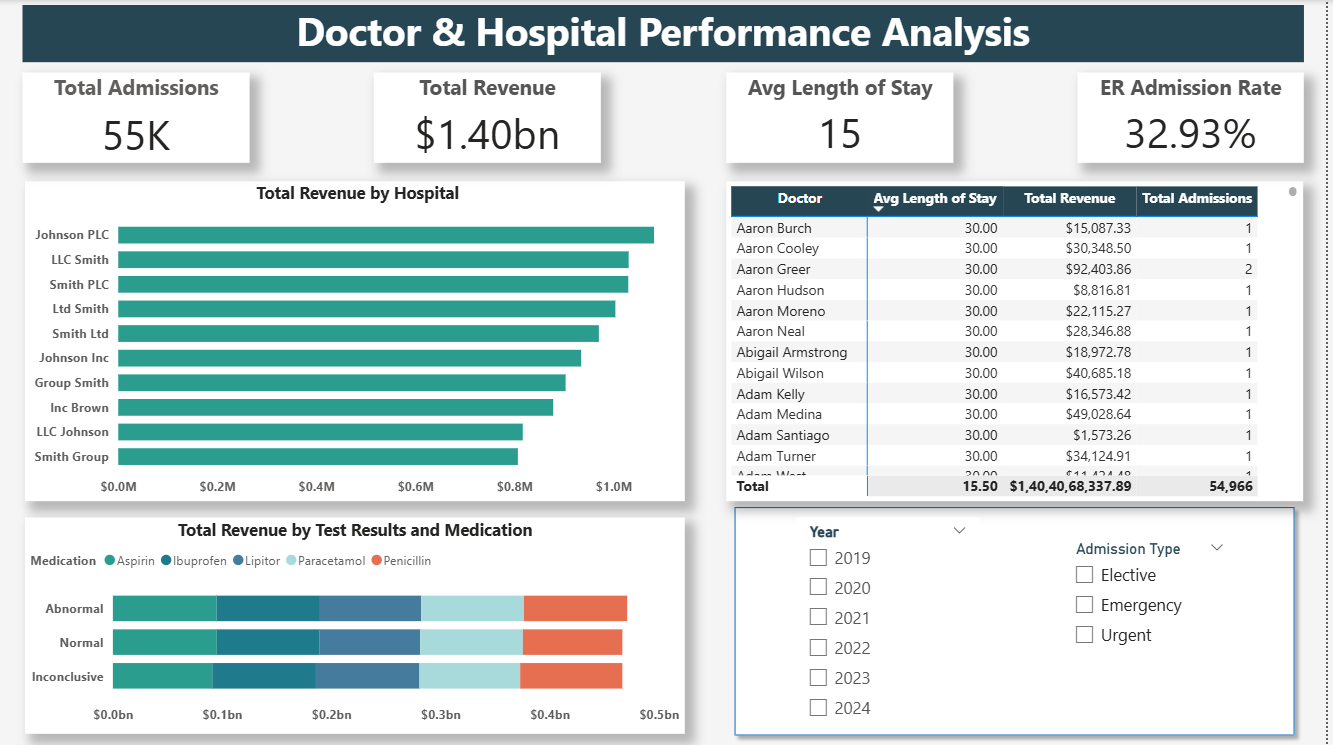

Layout of this report page (visuals, bound fields, positions):
{"tool":"powerbi","page":{"name":"Doctor & Hospital Analysis","canvas":[1280,720],"ordinal":2},"visuals":[{"type":"shape","box":[701.2,481,556.5,236.5],"z":0},{"type":"pivotTable","fields":{"Values":["Key Metrics.Avg Length of Stay","Key Metrics.Total Revenue","Key Metrics.Total Admissions"],"Rows":["healthcare_dataset.Doctor"]},"box":[701.2,175.3,556.5,308.9],"z":1000},{"type":"clusteredBarChart","fields":{"Category":["healthcare_dataset.Hospital"],"Y":["Key Metrics.Total Revenue"]},"box":[24,174.9,637,309],"z":2000},{"type":"barChart","fields":{"Series":["healthcare_dataset.Medication"],"Y":["Key Metrics.Total Revenue"],"Category":["healthcare_dataset.Test Results"]},"box":[24.1,499.5,637,208.7],"z":3000},{"type":"card","title":"Total Revenue","fields":{"Values":["Key Metrics.Total Revenue"]},"box":[360.7,70,219.6,86.9],"z":4000},{"type":"card","title":"Avg Length of Stay","fields":{"Values":["Key Metrics.Avg Length of Stay"]},"box":[700.5,70,219.6,86.9],"z":5000},{"type":"card","title":"ER Admission Rate","fields":{"Values":["Key Metrics.ER Admission Rate"]},"box":[1040,70,218.4,86.9],"z":6000},{"type":"slicer","fields":{"Values":["healthcare_dataset.Admission Type"]},"box":[1025.4,516.2,168.3,176.7],"z":7000},{"type":"slicer","fields":{"Values":["Calendar.Year"]},"box":[768,499.5,176.7,208.7],"z":8000},{"type":"textbox","box":[21.7,4.8,1236.6,55.5],"z":9000},{"type":"card","title":"Total Admissions","fields":{"Values":["Key Metrics.Total Admissions"]},"box":[21.7,70,219.6,86.9],"z":10000}]}

Visuals, with their boxes in screenshot pixels (x1, y1, x2, y2), scaled from the page's 1280x720 canvas onto the 1333x745 screenshot:
shape: (left=730, top=498, right=1310, bottom=742)
pivotTable - Key Metrics.Avg Length of Stay x Key Metrics.Total Revenue: (left=730, top=181, right=1310, bottom=501)
clusteredBarChart - healthcare_dataset.Hospital x Key Metrics.Total Revenue: (left=25, top=181, right=688, bottom=501)
barChart - healthcare_dataset.Medication x Key Metrics.Total Revenue: (left=25, top=517, right=688, bottom=733)
"Total Revenue" card: (left=376, top=72, right=604, bottom=162)
"Avg Length of Stay" card: (left=730, top=72, right=958, bottom=162)
"ER Admission Rate" card: (left=1083, top=72, right=1311, bottom=162)
slicer - healthcare_dataset.Admission Type: (left=1068, top=534, right=1243, bottom=717)
slicer - Calendar.Year: (left=800, top=517, right=984, bottom=733)
textbox: (left=23, top=5, right=1310, bottom=62)
"Total Admissions" card: (left=23, top=72, right=251, bottom=162)
